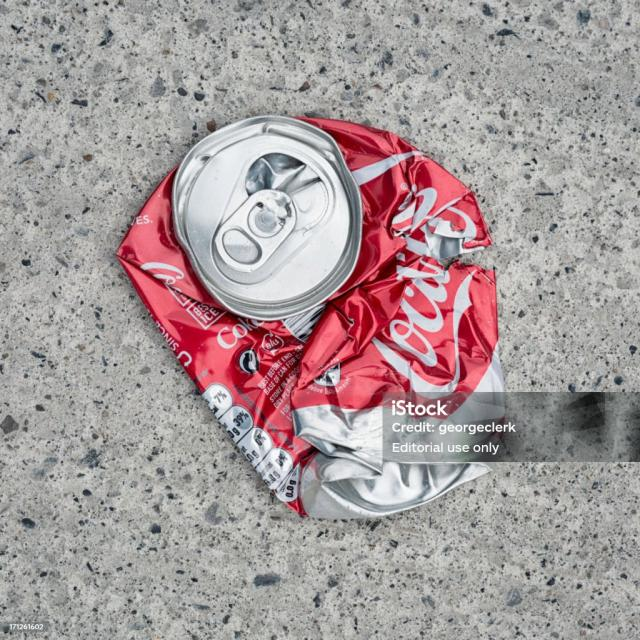aluminum_can: (100, 103, 512, 522)
